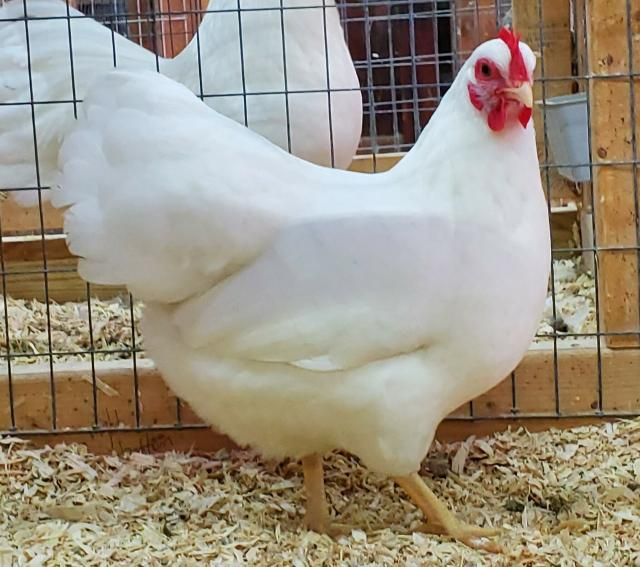Chicken: (59, 27, 551, 557), (0, 1, 366, 205)
